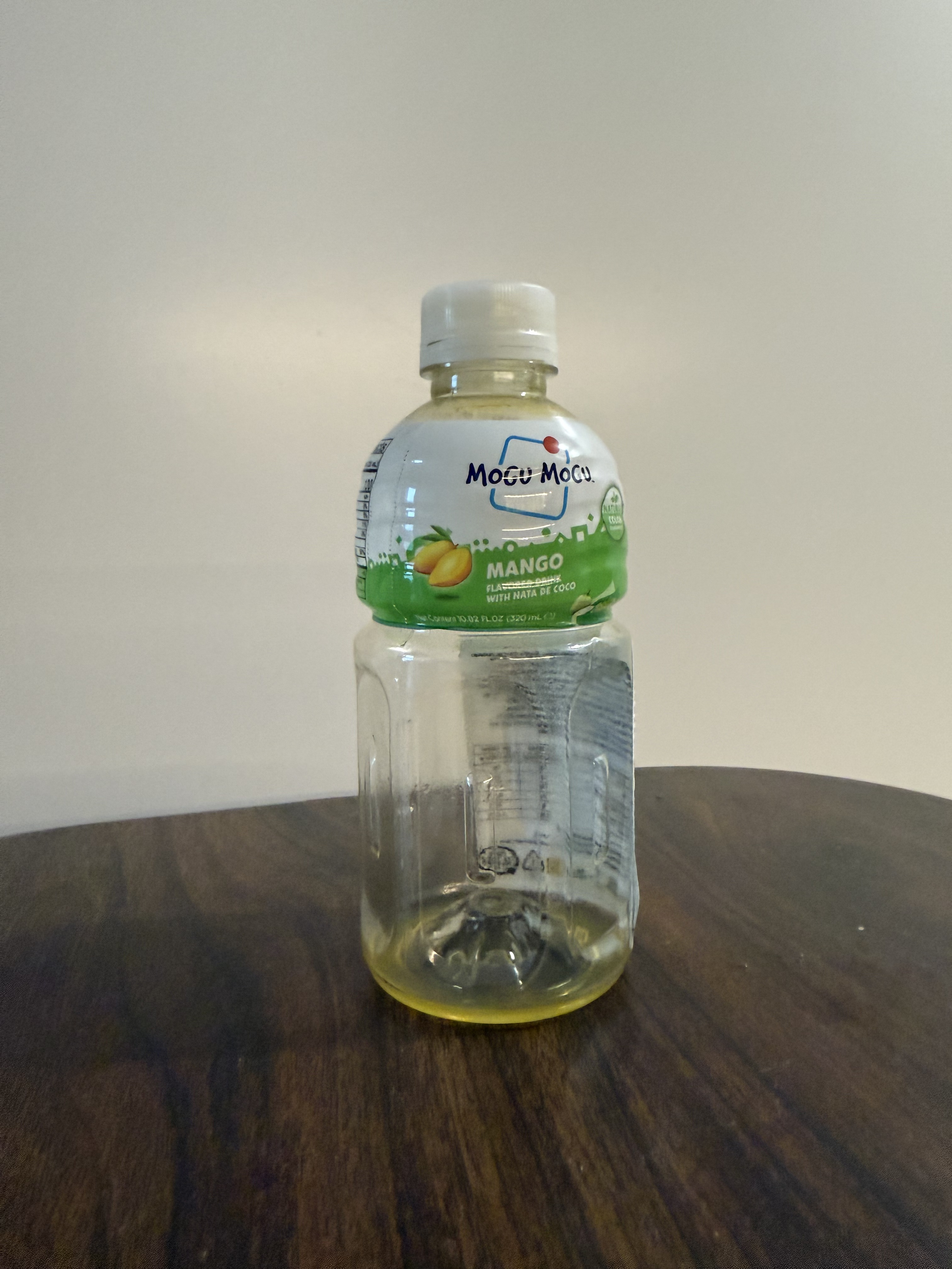Pantburk: (355, 281, 646, 1024)
